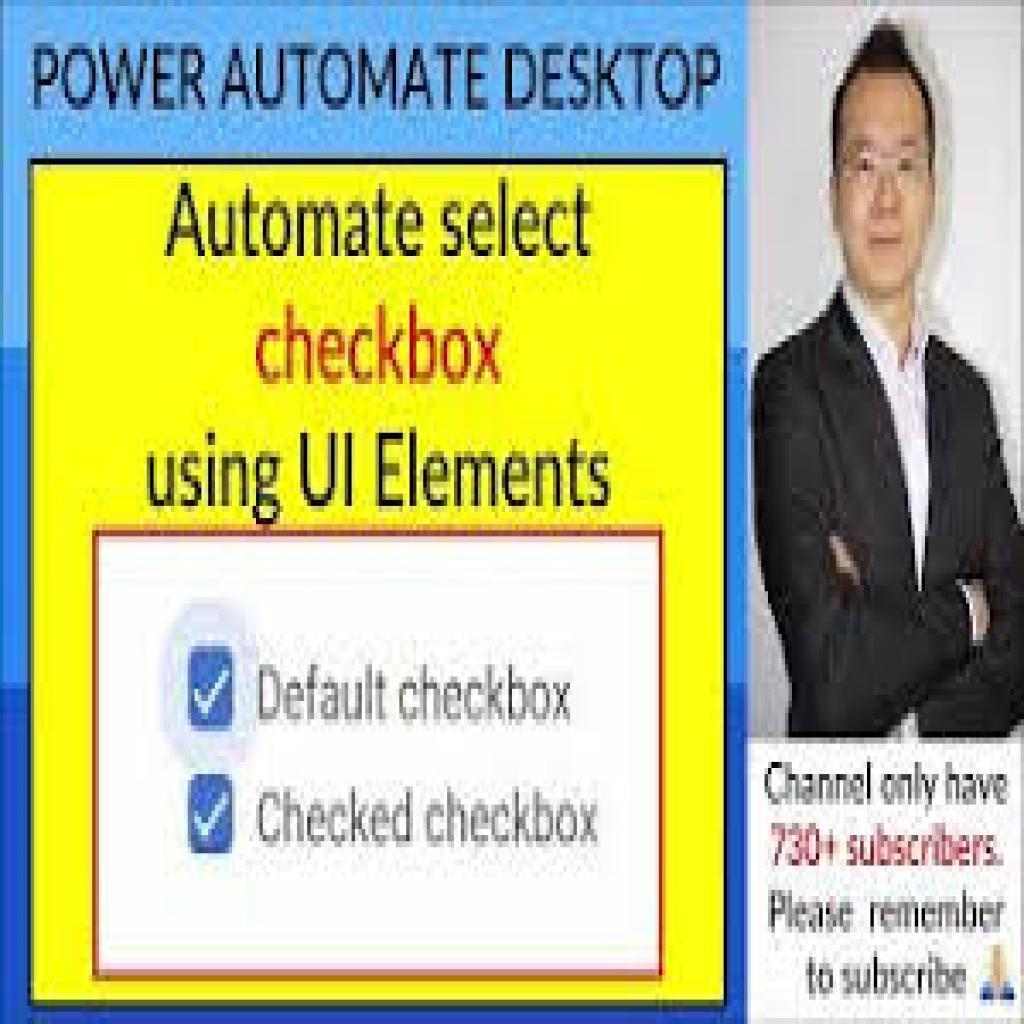checkbox: (188, 647, 237, 731), (188, 776, 235, 854)
